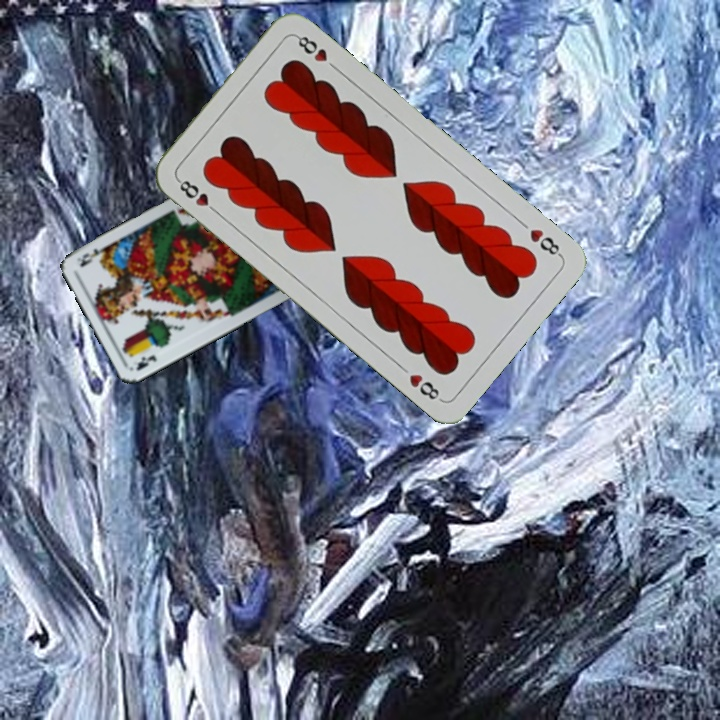EK: (132, 351, 159, 373)
H8: (173, 175, 222, 218), (525, 224, 565, 260)
